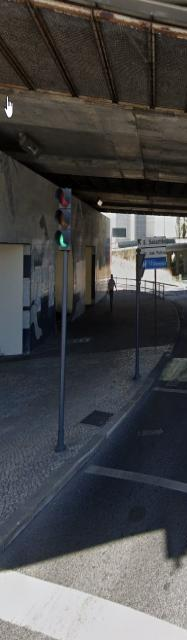green_light: (54, 189, 72, 250)
